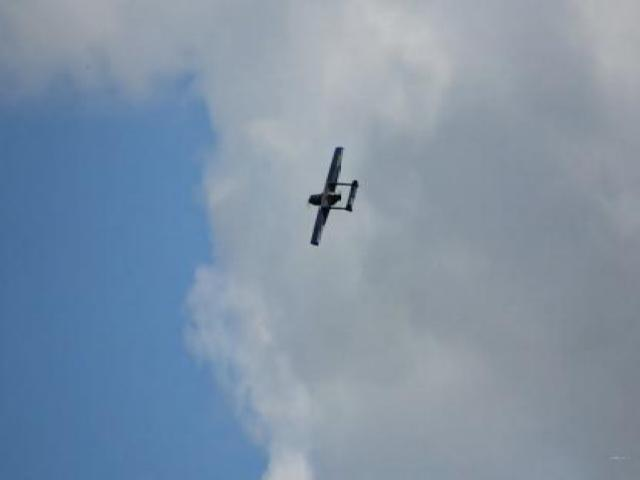uav: (307, 143, 359, 246)
